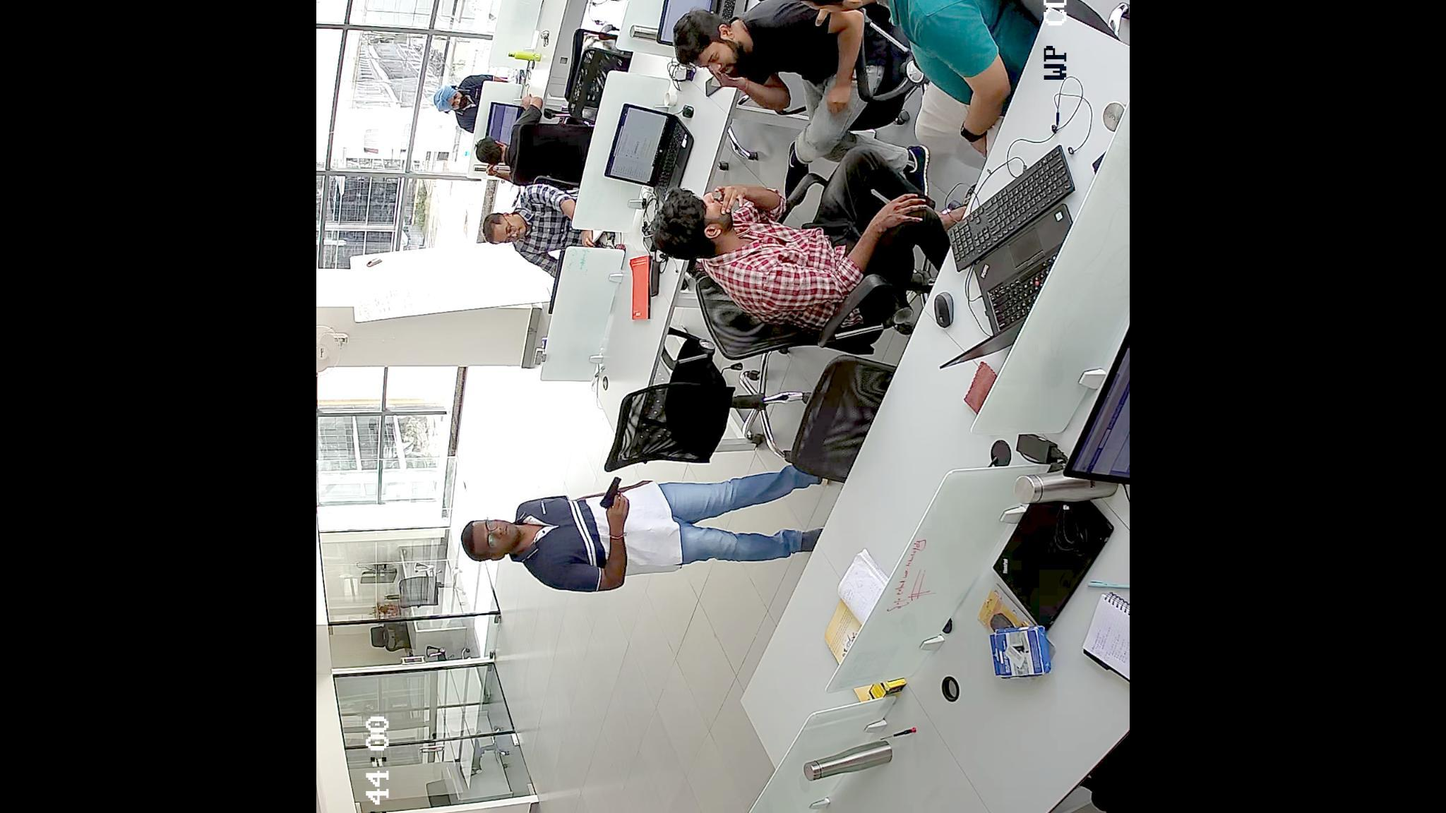gun: (599, 477, 629, 510)
